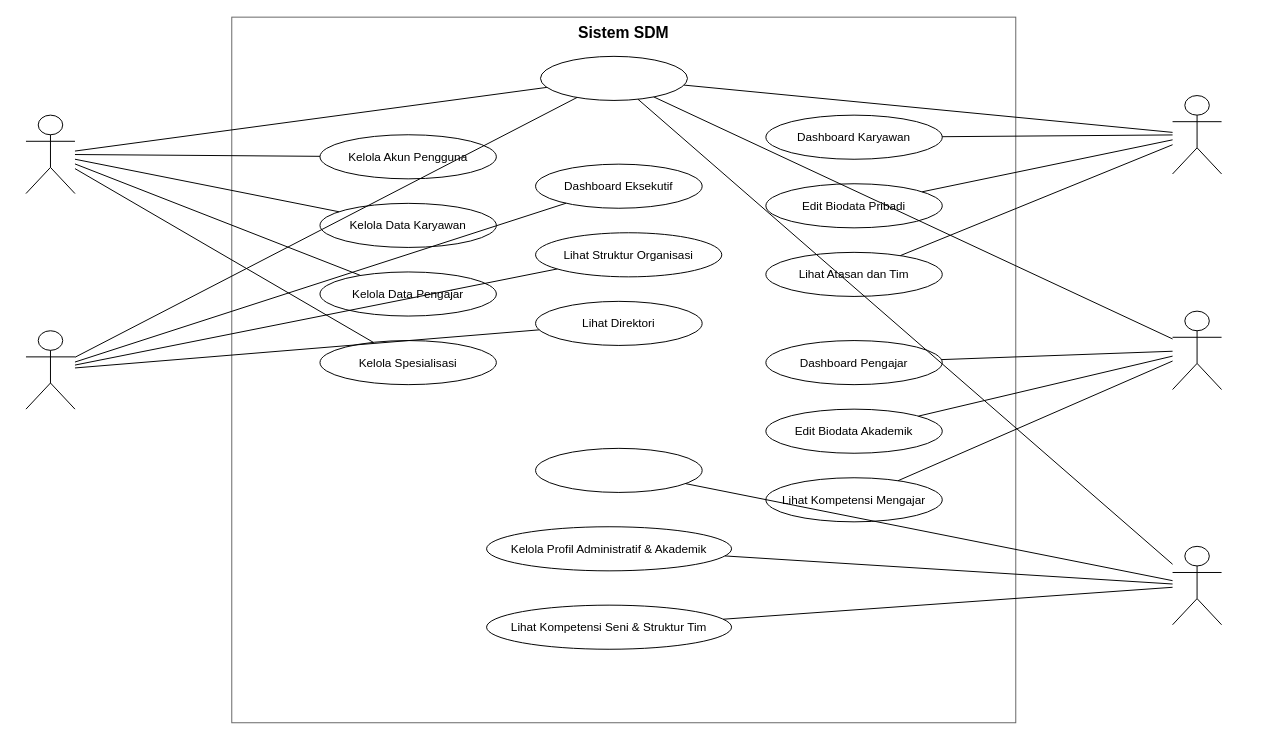
Some shapes in this 1271 by 740 pixel diagram are drawn without their labels. Each missing label, with the centre of its shape:
Dashboard Gabungan: the point at 618,469
Direksi: the point at 50,369
Karyawan: the point at 1197,134
Karyawan & Pengajar: the point at 1197,585
Login: the point at 613,77
Pengajar: the point at 1197,350
Super Admin: the point at 50,154
